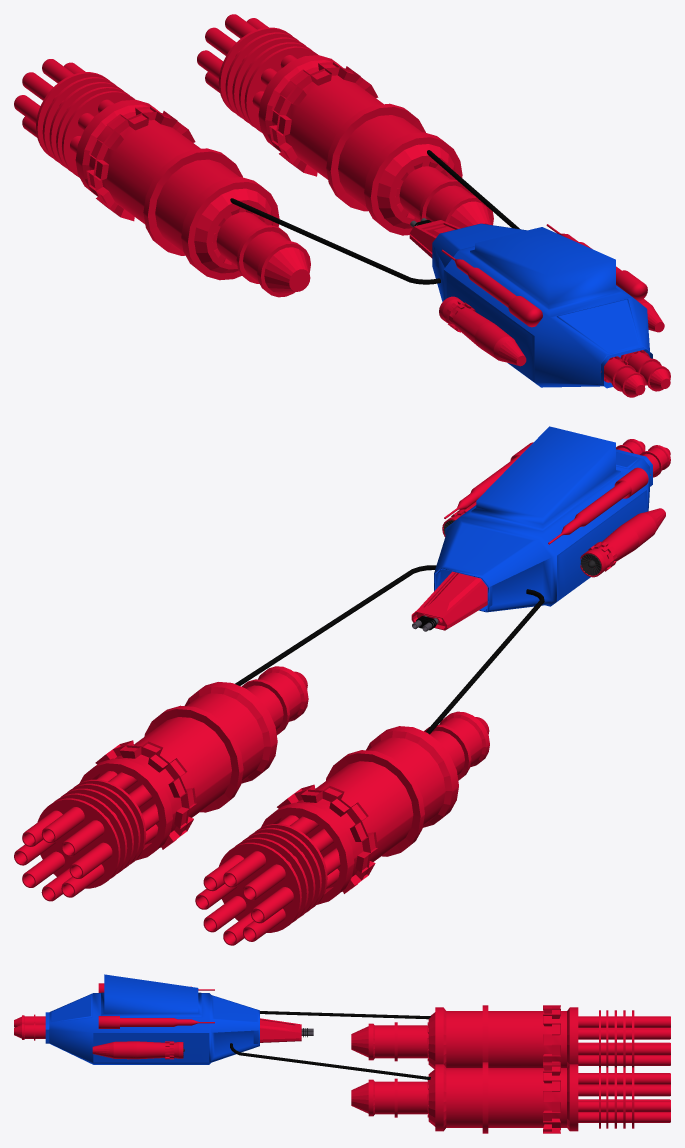
Rendered from PlayerPod.fbx.
3 views of the same model, one above another, from view 1: azimuth 30°, elevation 25°; view 2: azimuth 150°, elevation 25°; view 3: azimuth 270°, elevation 25° (orthographic). The views are drawn at different scales.
Parts seen in each view (by area): view 1: polySurface113, polySurface145, polySurface129, polySurface148, polySurface147, polySurface163, polySurface164, polySurface122, polySurface138, polySurface165, polySurface153, polySurface152 (+17 smaller); view 2: polySurface113, polySurface129, polySurface145, polySurface155, polySurface147, polySurface148, polySurface144, polySurface128, polySurface163, polySurface164, polySurface146, polySurface118 (+19 smaller); view 3: polySurface113, polySurface129, polySurface145, polySurface148, polySurface147, polySurface151, polySurface136, polySurface115, polySurface120, polySurface117, polySurface133, polySurface154 (+8 smaller).
Part boxes in pixels (left/top/right/bottom): polySurface113: left=432, top=223, right=652, bottom=388; polySurface145: left=75, top=99, right=279, bottom=280; polySurface129: left=258, top=55, right=462, bottom=235; polySurface148: left=212, top=208, right=310, bottom=297; polySurface147: left=395, top=162, right=493, bottom=228; polySurface163: left=439, top=296, right=526, bottom=366; polySurface164: left=441, top=249, right=542, bottom=327; polySurface122: left=244, top=46, right=317, bottom=132; polySurface138: left=62, top=91, right=134, bottom=177; polySurface165: left=230, top=198, right=440, bottom=284; polySurface153: left=601, top=356, right=645, bottom=397; polySurface152: left=620, top=350, right=670, bottom=391; polySurface113: left=434, top=426, right=652, bottom=612; polySurface129: left=79, top=682, right=277, bottom=860; polySurface145: left=261, top=726, right=458, bottom=904; polySurface155: left=411, top=571, right=487, bottom=630; polySurface147: left=241, top=666, right=308, bottom=735; polySurface148: left=424, top=711, right=489, bottom=780; polySurface144: left=219, top=842, right=301, bottom=932; polySurface128: left=37, top=798, right=120, bottom=888; polySurface163: left=580, top=508, right=665, bottom=577; polySurface164: left=548, top=467, right=648, bottom=544; polySurface146: left=235, top=565, right=436, bottom=685; polySurface118: left=61, top=784, right=152, bottom=856; polySurface113: left=45, top=974, right=259, bottom=1064; polySurface129: left=428, top=1062, right=578, bottom=1133; polySurface145: left=428, top=1005, right=578, bottom=1069; polySurface148: left=351, top=1022, right=428, bottom=1061; polySurface147: left=351, top=1078, right=428, bottom=1117; polySurface151: left=92, top=1041, right=183, bottom=1059; polySurface136: left=578, top=1028, right=670, bottom=1039; polySurface115: left=578, top=1073, right=670, bottom=1084; polySurface120: left=578, top=1085, right=670, bottom=1096; polySurface117: left=578, top=1101, right=670, bottom=1112; polySurface133: left=578, top=1044, right=670, bottom=1055; polySurface154: left=98, top=1016, right=214, bottom=1028.
Bounding box in the file's own units: 3.34 × 2.08 × 10.62.
